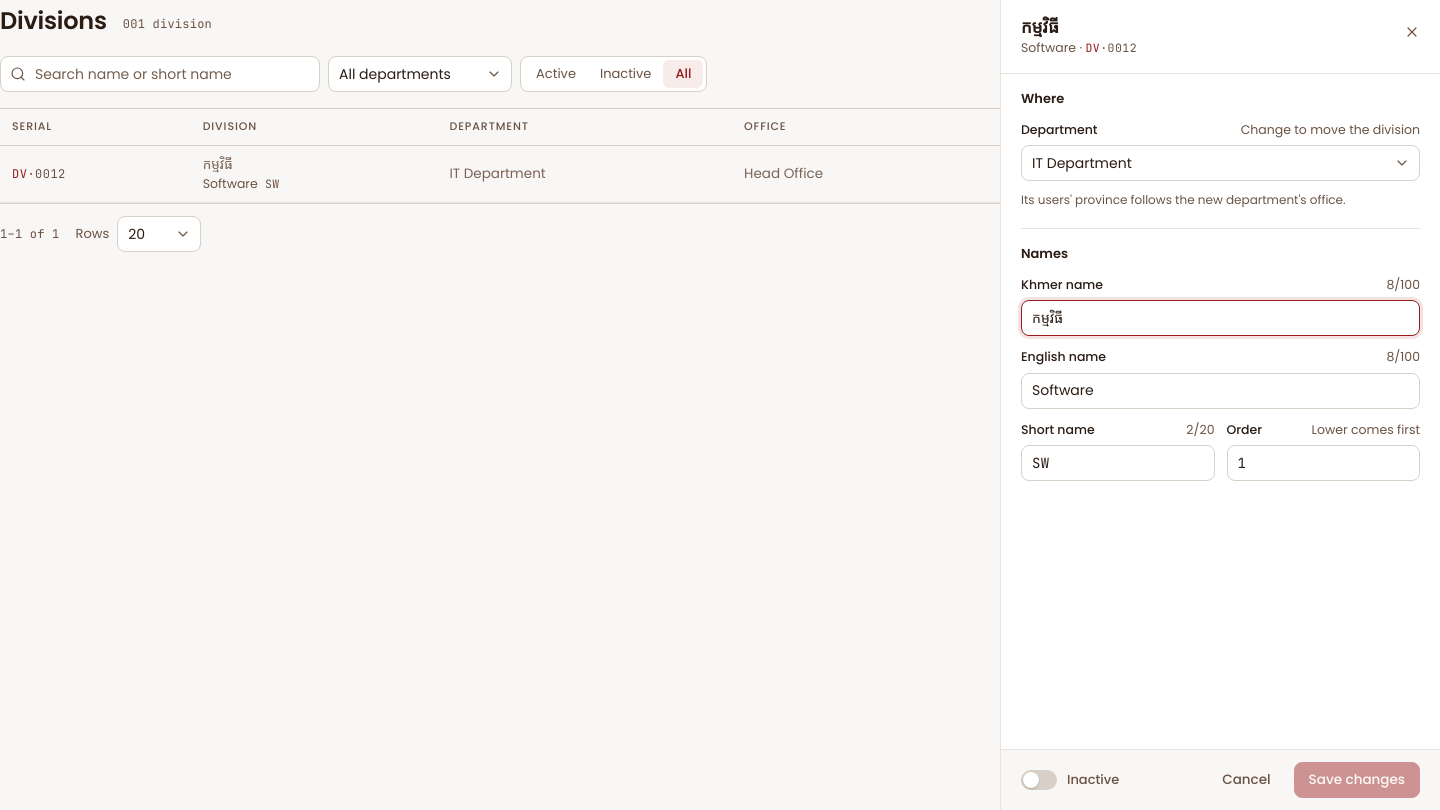
DivisionsView › shows why a division cannot be turned on and keeps it inactive
The width and height of the screenshot is (1440, 810).
Click the switch named "Active": x=1039, y=780 1021,770 -> 1057,790
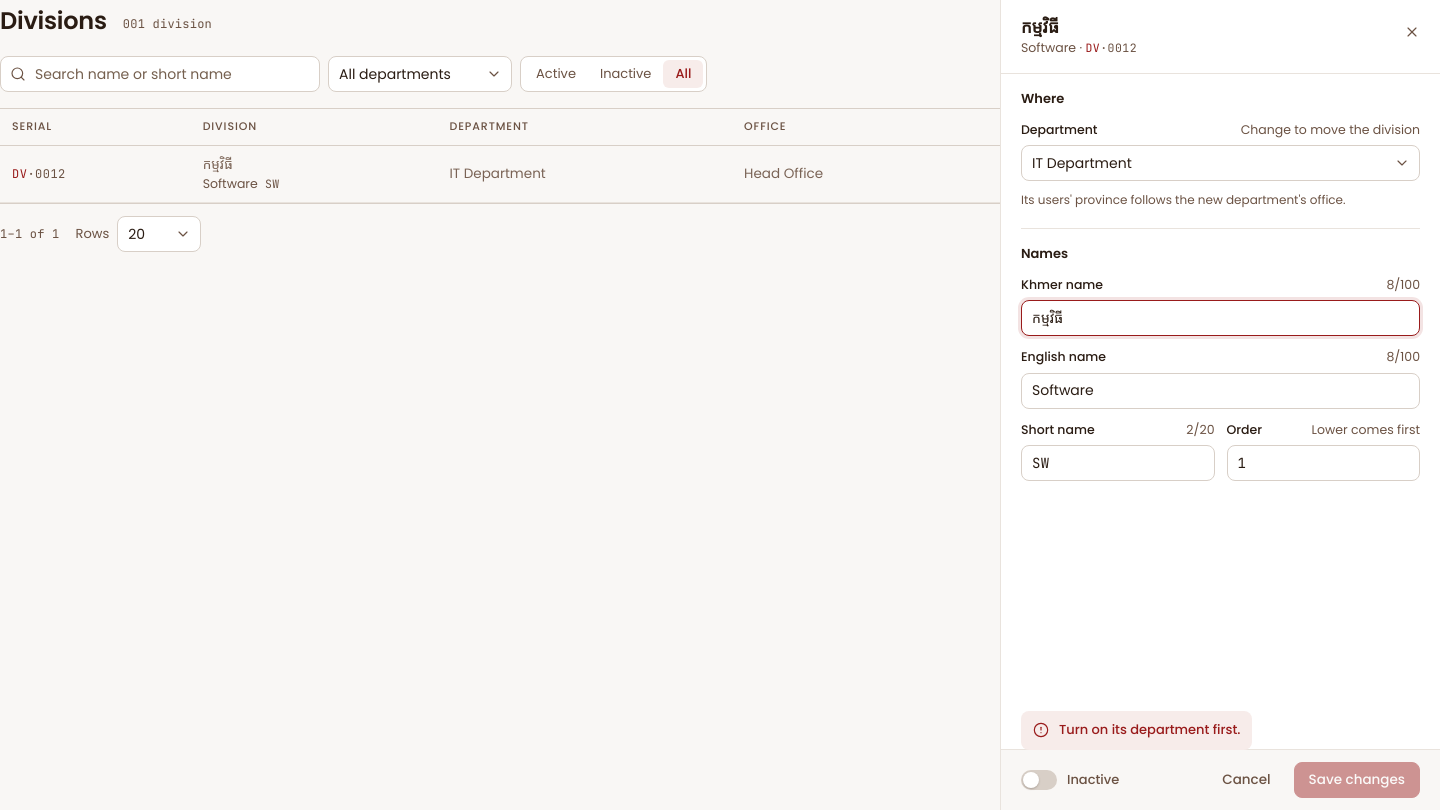
Check: the row shows "Inactive", box 1178,164 -> 1229,183
Check: the message "Turn on its department first." is shown, box 1021,711 -> 1252,750
